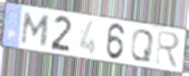2: (50, 15, 74, 55)
4: (78, 20, 99, 57)
6: (105, 23, 126, 62)
M: (19, 11, 52, 48)
Q: (129, 28, 156, 64)
R: (154, 29, 182, 71)
